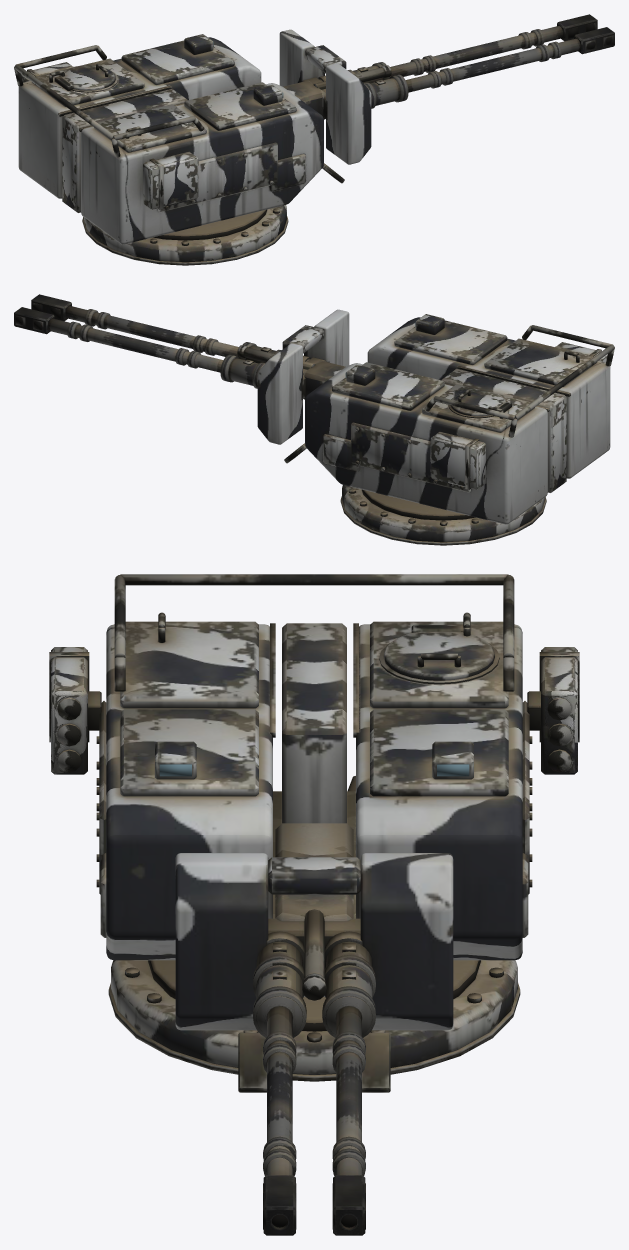
File: turret_kit_t2_arctic_tiger.glb
3 renders of one model, top to bottom at view 1: azimuth 30°, elevation 25°; view 2: azimuth 150°, elevation 25°; view 3: azimuth 270°, elevation 25°, orthographic. The views are drawn at different scales.
Visible parts, largest first — view 1: turret_twin_t2, guns, pods; view 2: turret_twin_t2, guns, pods; view 3: turret_twin_t2, guns, pods.
Boxes of the visible parts, left/top/right/bottom form: turret_twin_t2: left=14, top=29, right=371, bottom=265; guns: left=283, top=14, right=614, bottom=119; pods: left=21, top=62, right=198, bottom=209; turret_twin_t2: left=257, top=309, right=614, bottom=545; guns: left=14, top=294, right=345, bottom=399; pods: left=430, top=342, right=607, bottom=489; turret_twin_t2: left=96, top=574, right=532, bottom=1092; guns: left=253, top=823, right=375, bottom=1235; pods: left=49, top=647, right=579, bottom=774.
Size of the model in its own units: 2.7 by 0.722 by 1.15.
Materials: 4 (3 with a texture image).
